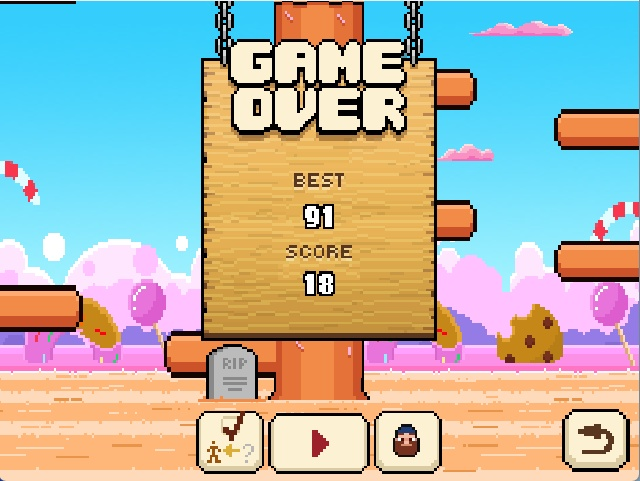game_over: (218, 31, 416, 145)
